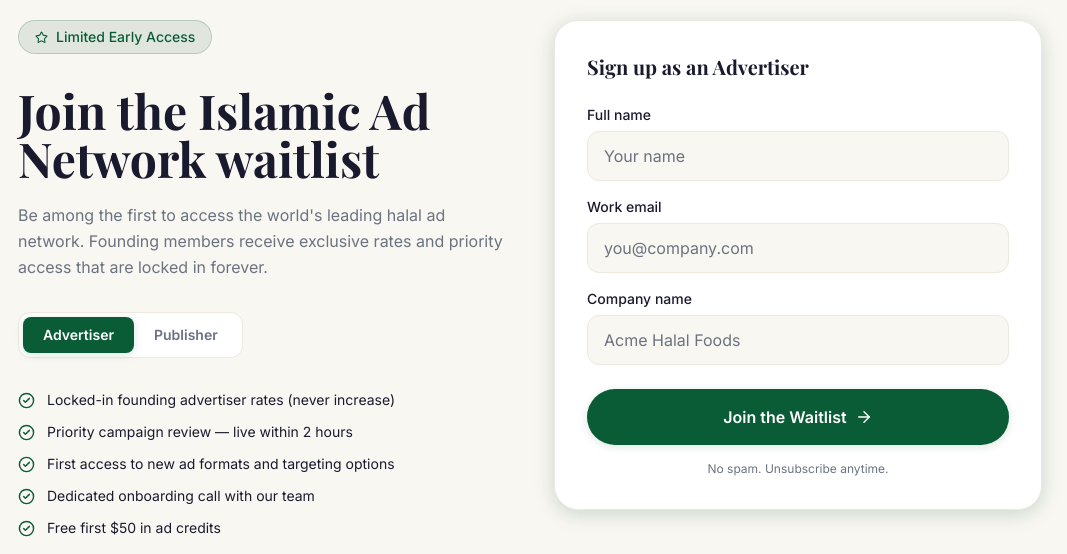
Test case: WaitlistContent › TC-C-099: toggles to publisher type on click
Click the button "Publisher": (186, 335) [134,317,238,353]
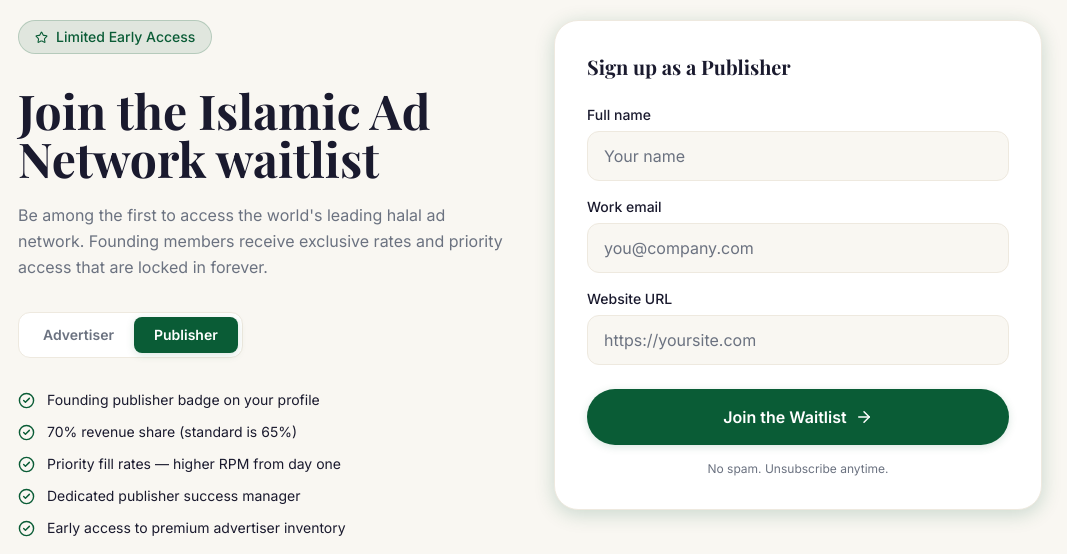
Now the heading "Sign up as a Publisher" is shown, box [587,53,791,80]
